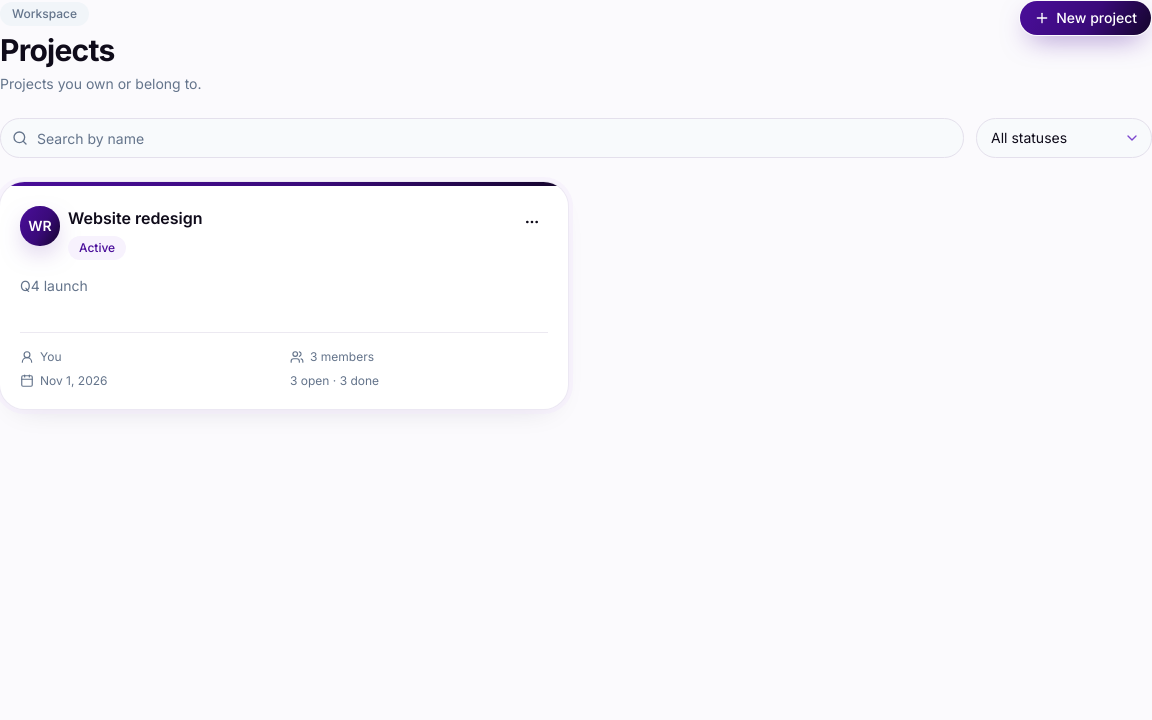
Test: edit › sends nothing when nothing changed
Expected: the heading "Projects" is shown, [0, 32, 114, 68]
What coordinates should you click on to do the following:
click the button named "Actions for Website redesign"
I would click on:
 (532, 222)
Its box is [516, 206, 548, 238].
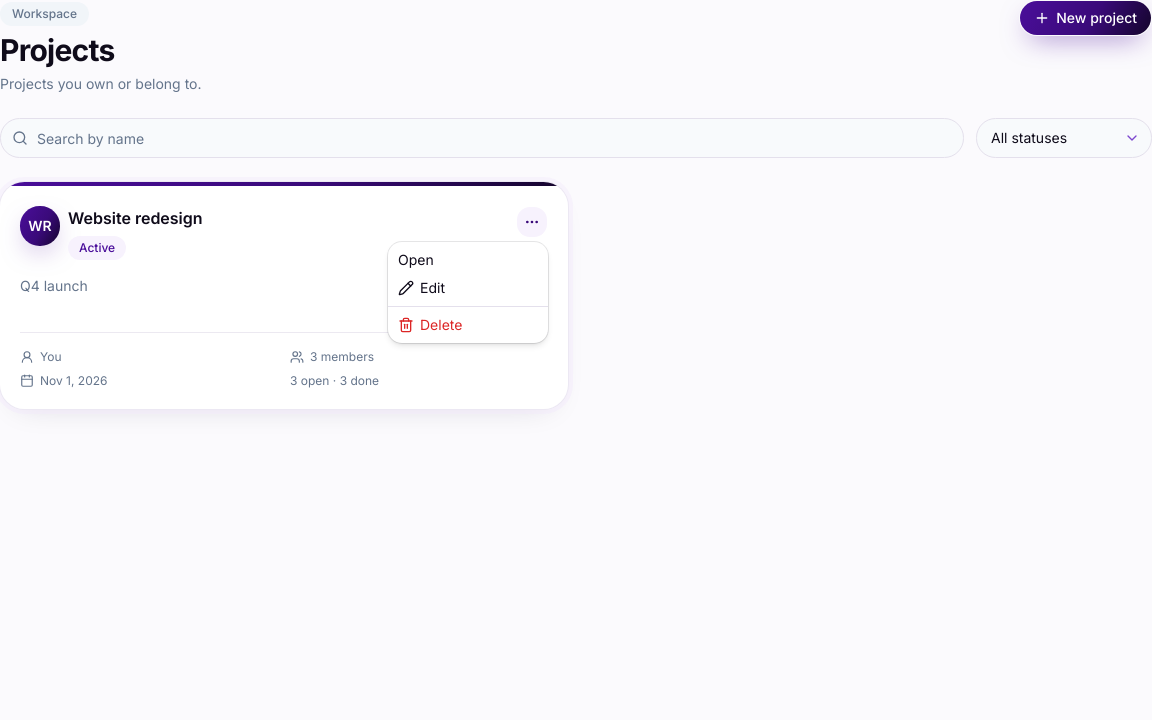
What coordinates should you click on to do the following:
click the menu item "Edit"
I would click on:
 (422, 288)
Its box is [398, 279, 445, 296].
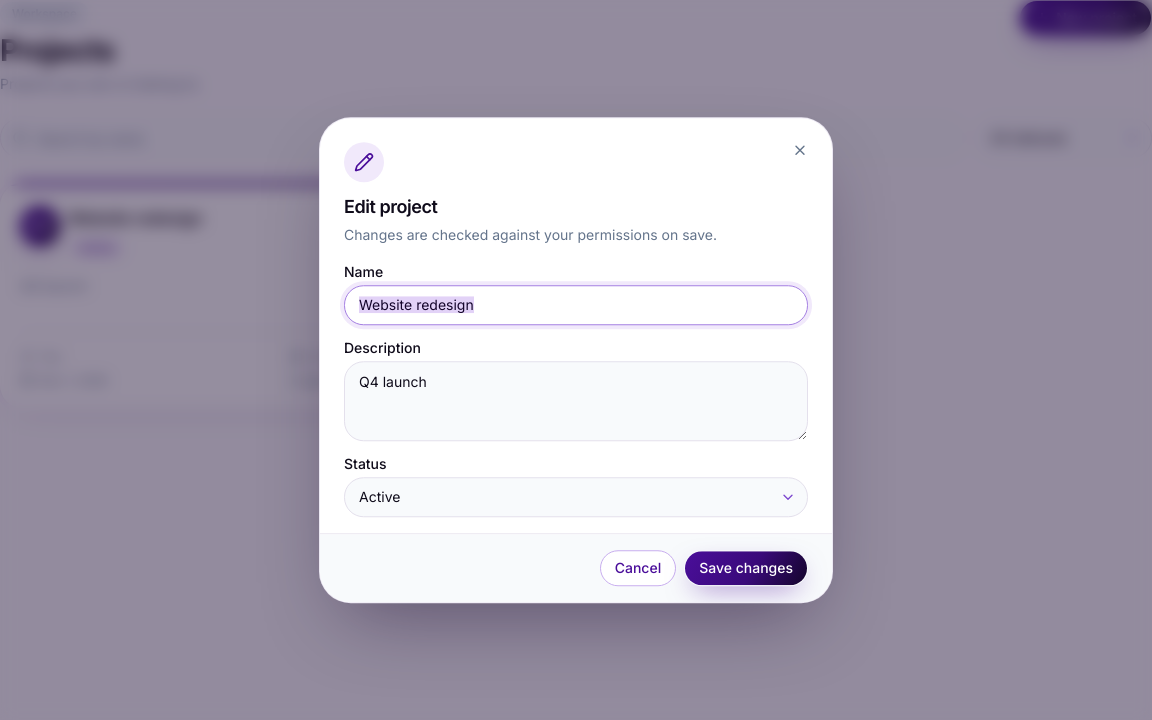
What coordinates should you click on to do the following:
click the button "Save changes"
I would click on:
 (746, 568)
Its box is [684, 550, 808, 586].
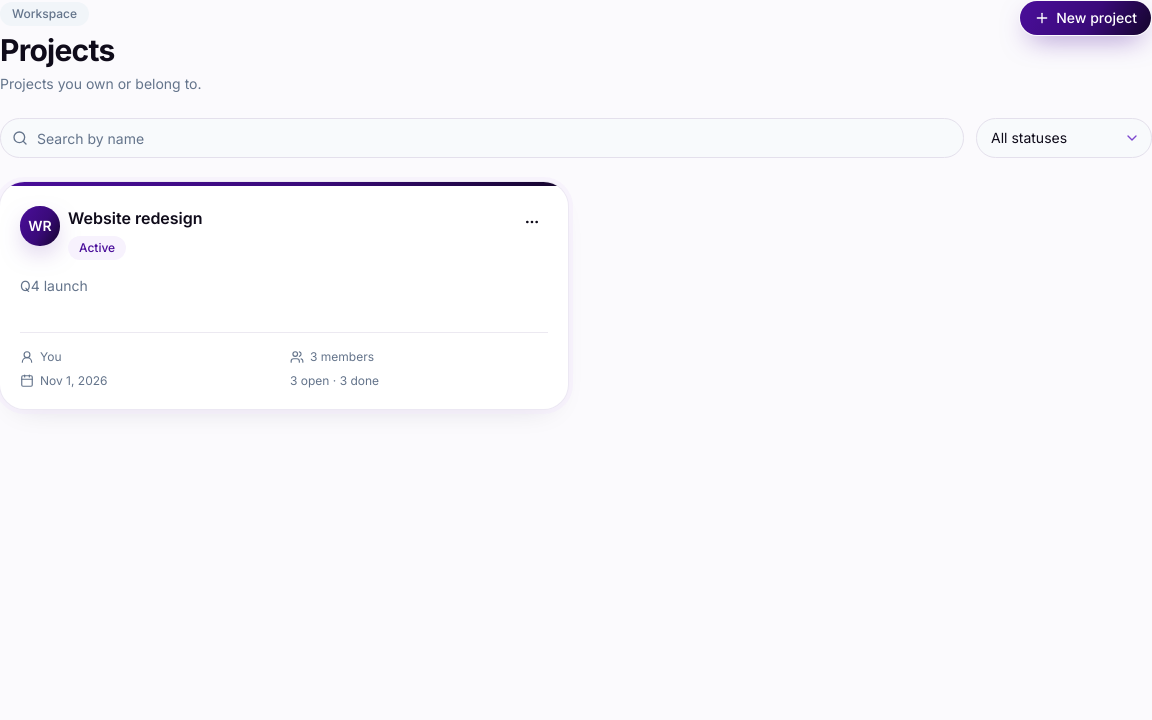
Result: the dialog is gone
